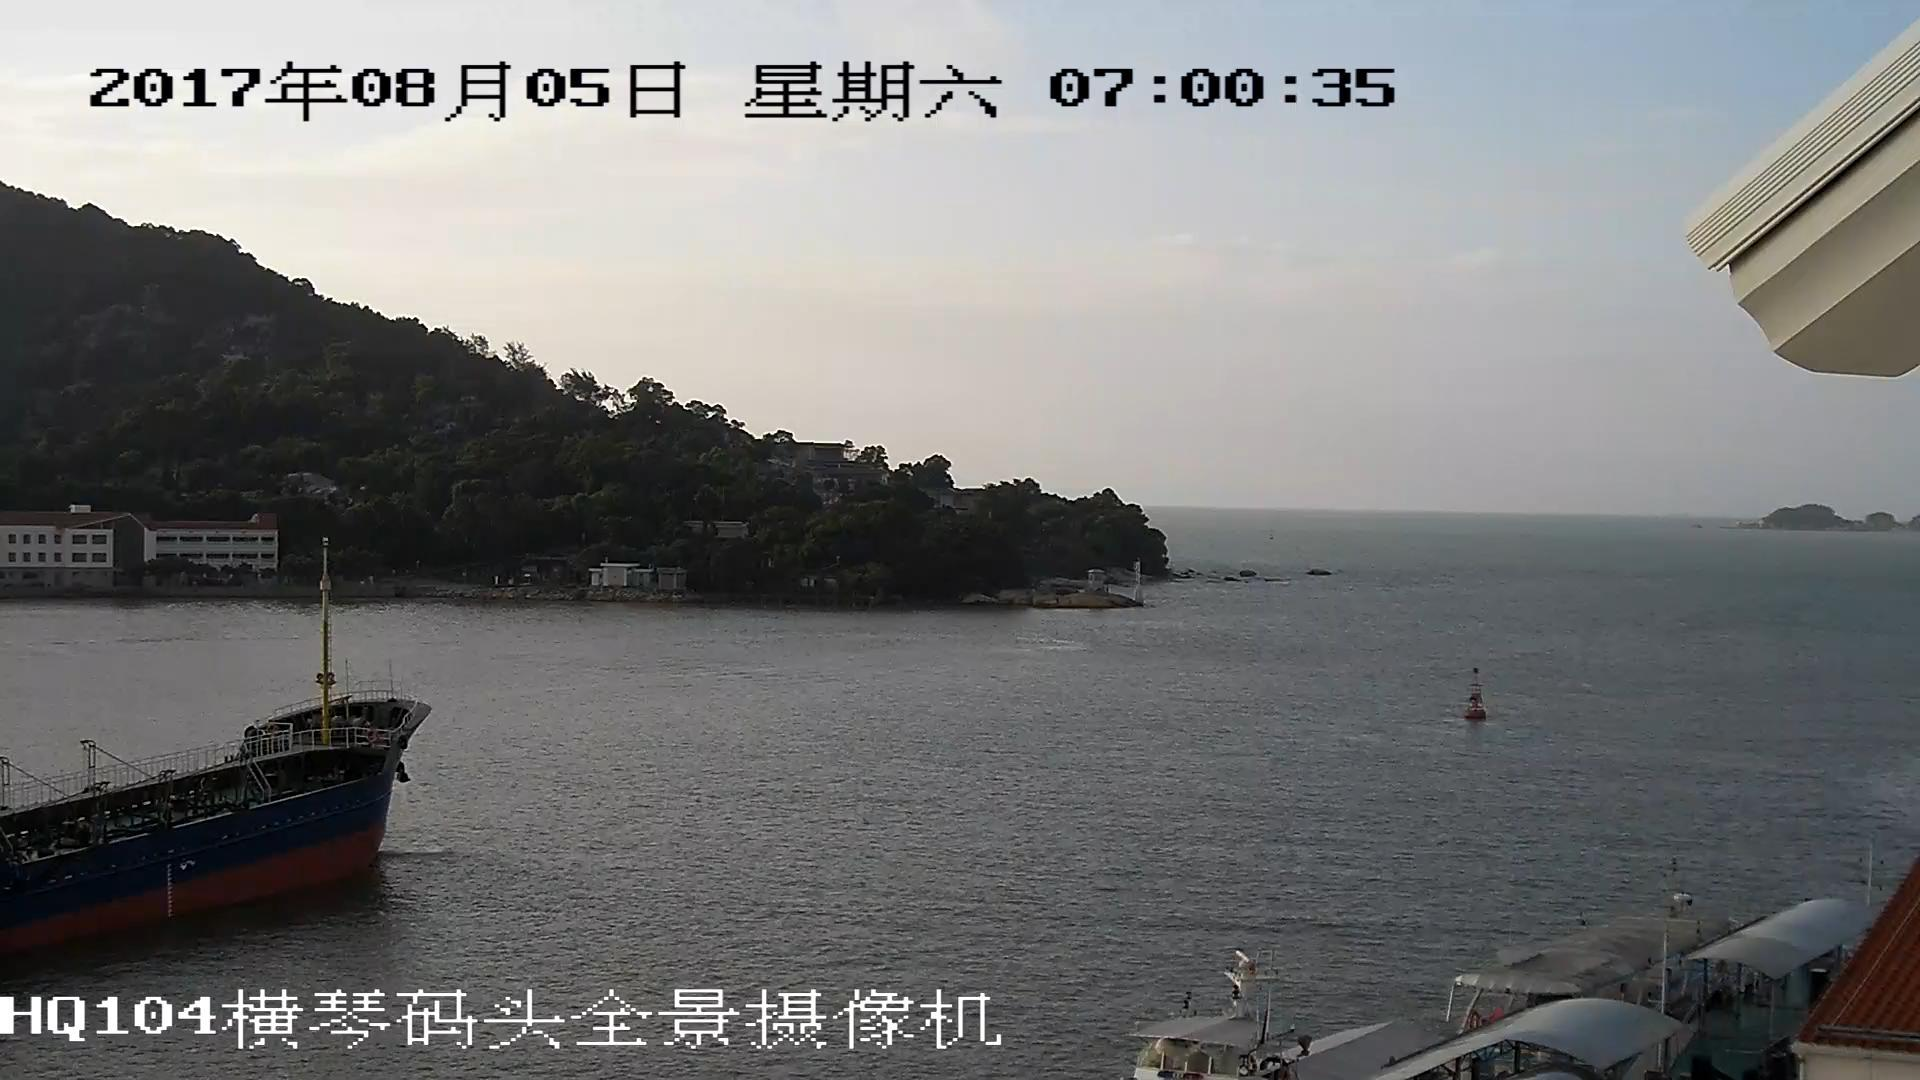Ship: (3, 543, 429, 982)
